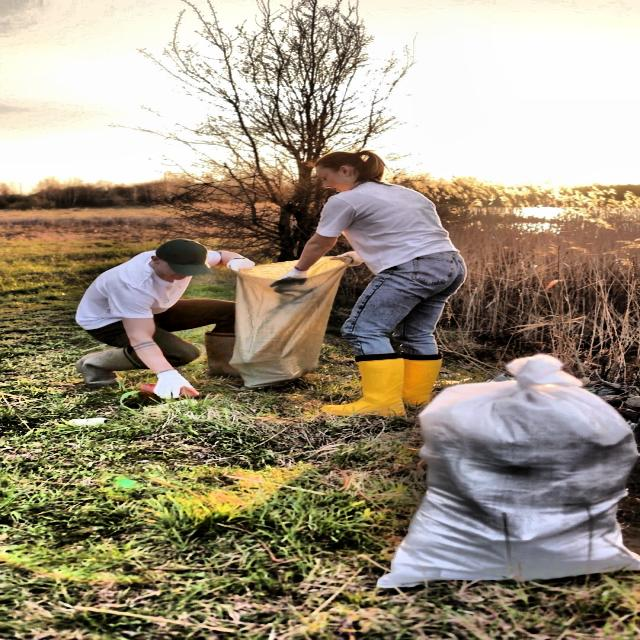gloved: (123, 369, 231, 401), (272, 262, 312, 289), (225, 255, 258, 278)
